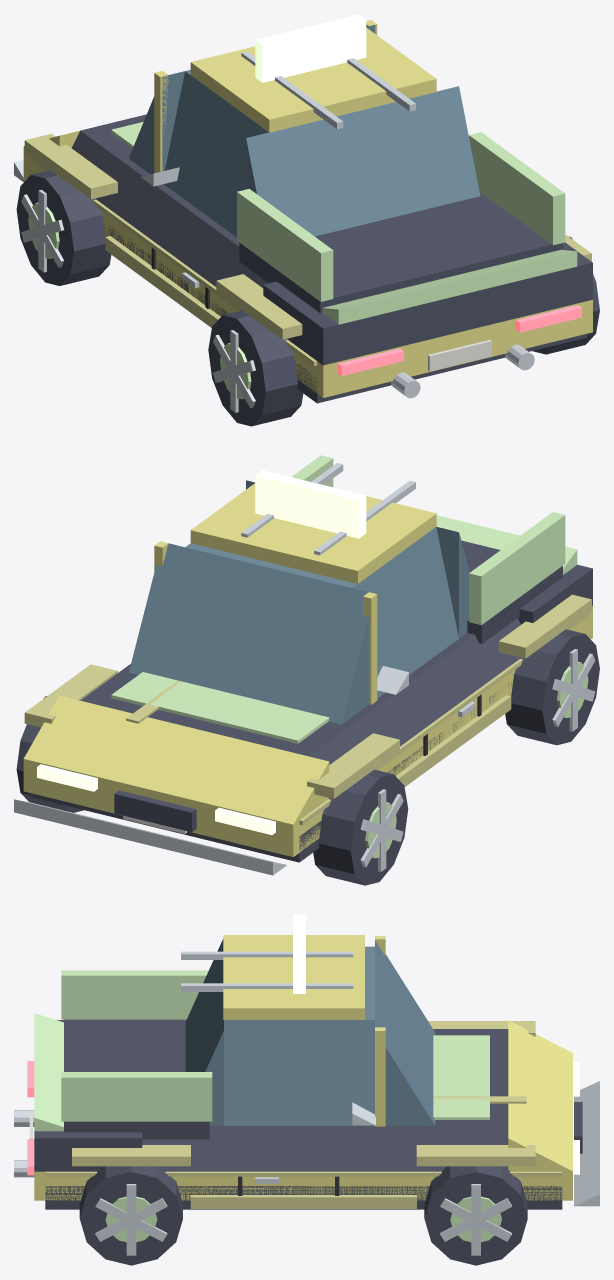
The model's file is crosswalk_cruiser.glb.
The picture shows the model from 3 angles, top to bottom: view 1: azimuth 30°, elevation 25°; view 2: azimuth 150°, elevation 25°; view 3: azimuth 270°, elevation 25°; orthographic projection. The views are drawn at different scales.
Parts seen in each view (by area): view 1: RearWindow.156, PickupBed.015, Tail.056, Roof.256, Body.256, CabinSideL.053, ShoulderL.053, Wheel_RL.216, Wheel_FL.216, BedRail-1.015, BedRail1.015, Ducktail.041 (+19 smaller); view 2: Windshield.156, Nose.053, Roof.256, CabinSideL.053, Body.256, ShoulderL.053, Hood.252, Wheel_FL.216, Wheel_RL.216, BedRail-1.015, RoofSign.029, BodyUpper.053 (+24 smaller); view 3: CabinSideR.053, ShoulderR.053, Roof.256, PickupBed.015, Nose.053, BedRail1.015, Windshield.156, Body.256, BedRail-1.015, Wheel_RR.216, Wheel_FR.216, Hood.252 (+25 smaller).
Part boxes in pixels (x1,y1,x2,y2): RearWindow.156: (246, 86, 480, 236); PickupBed.015: (239, 192, 562, 313); Tail.056: (263, 242, 592, 365); Roof.256: (190, 27, 436, 132); Body.256: (23, 146, 592, 397); CabinSideL.053: (164, 71, 268, 237); ShoulderL.053: (72, 130, 268, 287); Wheel_RL.216: (208, 310, 303, 426); Wheel_FL.216: (16, 170, 111, 285); BedRail-1.015: (237, 188, 333, 301); BedRail1.015: (469, 132, 565, 245); Ducktail.041: (322, 249, 577, 324); Windshield.156: (129, 543, 369, 724); Nose.053: (23, 695, 329, 824); Roof.256: (190, 483, 436, 583); CabinSideL.053: (353, 527, 458, 698); Body.256: (23, 605, 592, 857); ShoulderL.053: (309, 618, 520, 764); Hood.252: (111, 672, 329, 743); Wheel_FL.216: (313, 769, 408, 885); Wheel_RL.216: (505, 629, 599, 745); BedRail-1.015: (469, 512, 565, 625); RoofSign.029: (255, 470, 366, 538); BodyUpper.053: (81, 633, 474, 756); CabinSideR.053: (224, 1020, 374, 1125); ShoulderR.053: (142, 1129, 508, 1171); Roof.256: (223, 935, 364, 1019); PickupBed.015: (64, 1019, 209, 1139); Nose.053: (508, 1020, 572, 1171); BedRail1.015: (61, 1072, 212, 1121); Windshield.156: (375, 940, 435, 1125); Body.256: (34, 1171, 572, 1200); BedRail-1.015: (61, 970, 208, 1019); Wheel_RR.216: (79, 1166, 182, 1265); Wheel_FR.216: (424, 1166, 527, 1265); Hood.252: (433, 1035, 489, 1119).
Bounding box in the file's own units: 3.3 × 2.62 × 5.44.
